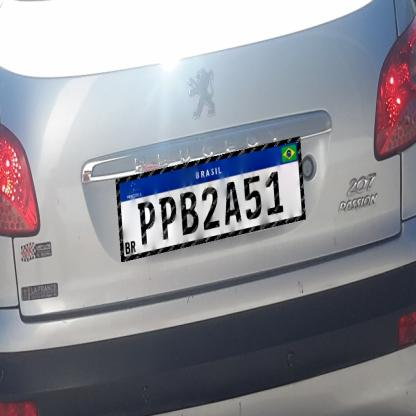PlacaM: (116, 136, 306, 262)
